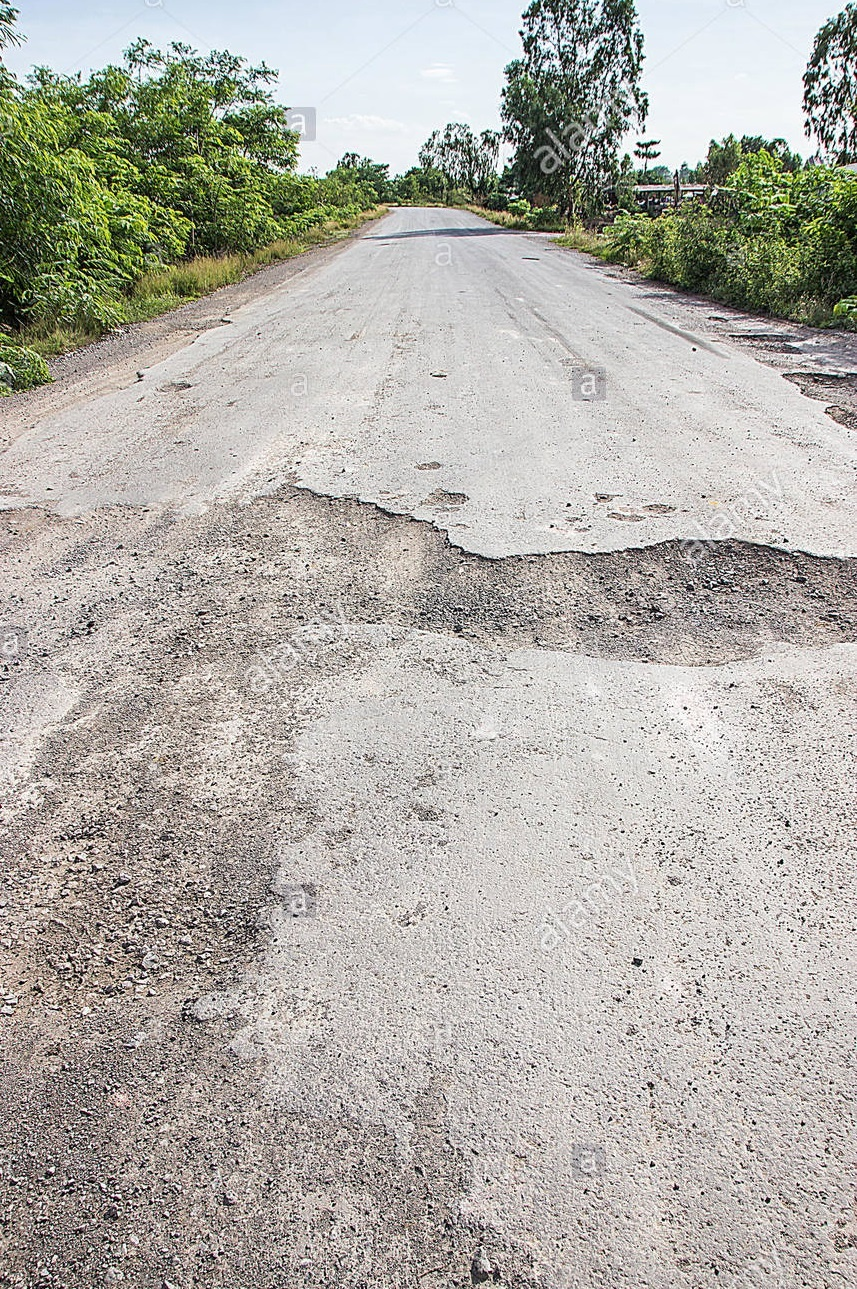pothole: (240, 439, 857, 836)
